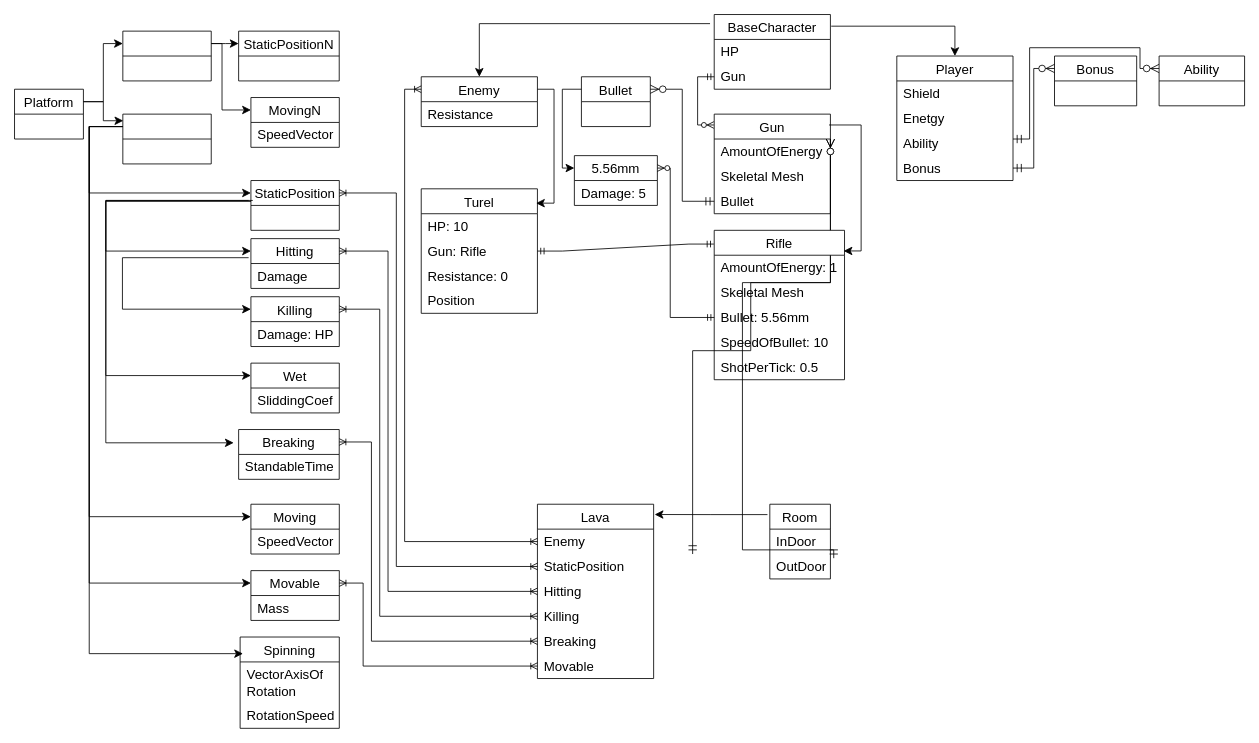
The diagram is 1259 pixels wide and 743 high, and some of its shapes have lost their labels. The shapes that lost their labels are listed below. From the top down, each one's centre as x and y in pixels, then its label:
pixel 166 55: NoCollision
pixel 166 138: Collision
